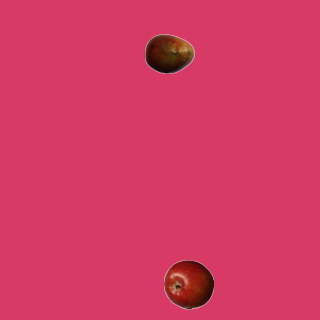Apple Braeburn: (163, 259, 213, 309)
Mango Red: (144, 28, 194, 78)
